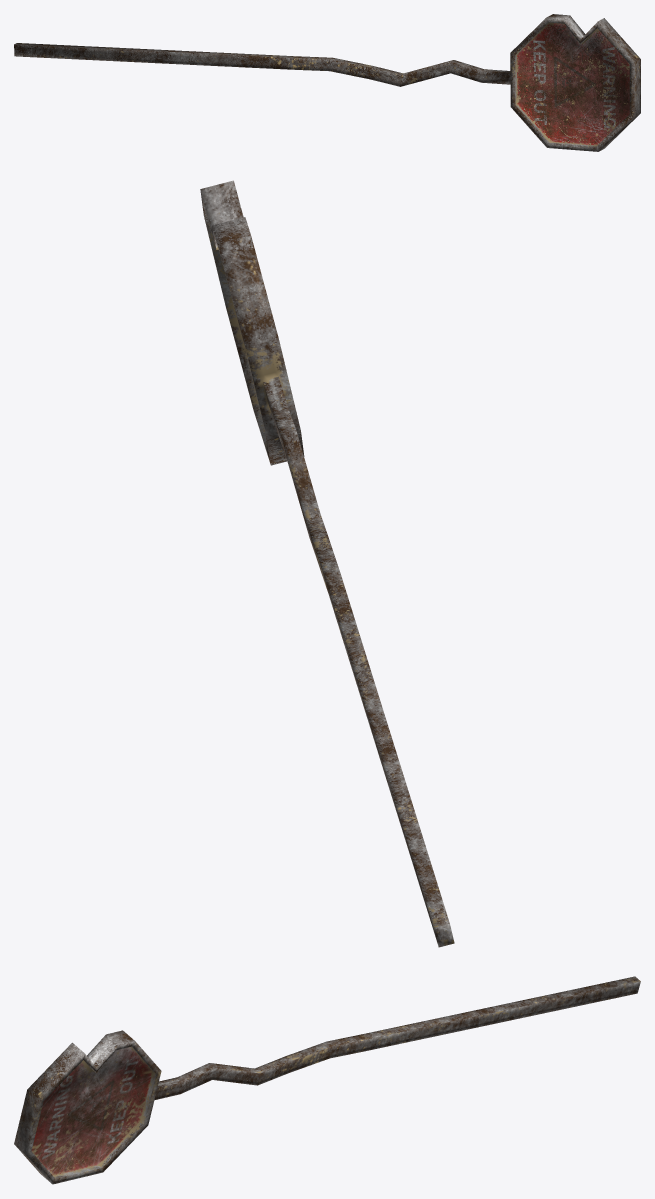
The model's file is Anim_idle_senyal_objetos.0047.obj.
The picture shows the model from 3 angles, top to bottom: view 1: azimuth 30°, elevation 25°; view 2: azimuth 150°, elevation 25°; view 3: azimuth 270°, elevation 25°; orthographic projection. The views are drawn at different scales.
Bounding box in the file's own units: 8.12 × 2.59 × 9.92.
